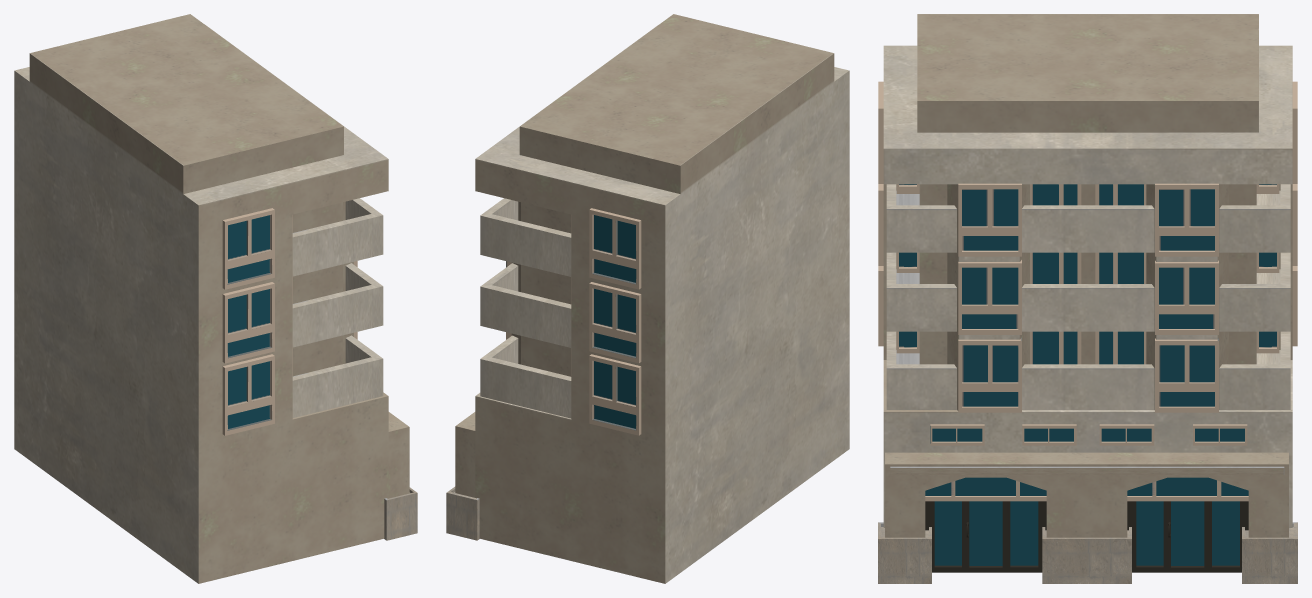
The model's file is Bat_VieuxPort_4.fbx.
The picture shows the model from 3 angles, left to right: view 1: azimuth 30°, elevation 25°; view 2: azimuth 150°, elevation 25°; view 3: azimuth 270°, elevation 25°; orthographic projection. The views are drawn at different scales.
Parts seen in each view (by area): view 1: Bat_VieuxP_4; view 2: Bat_VieuxP_4; view 3: Bat_VieuxP_4.
Boxes of the visible parts, x1=… form: Bat_VieuxP_4: x1=14, y1=14, x2=417, y2=583; Bat_VieuxP_4: x1=446, y1=14, x2=849, y2=583; Bat_VieuxP_4: x1=878, y1=14, x2=1297, y2=583.
Size of the model in its own units: 1005 by 1809 by 1519.
